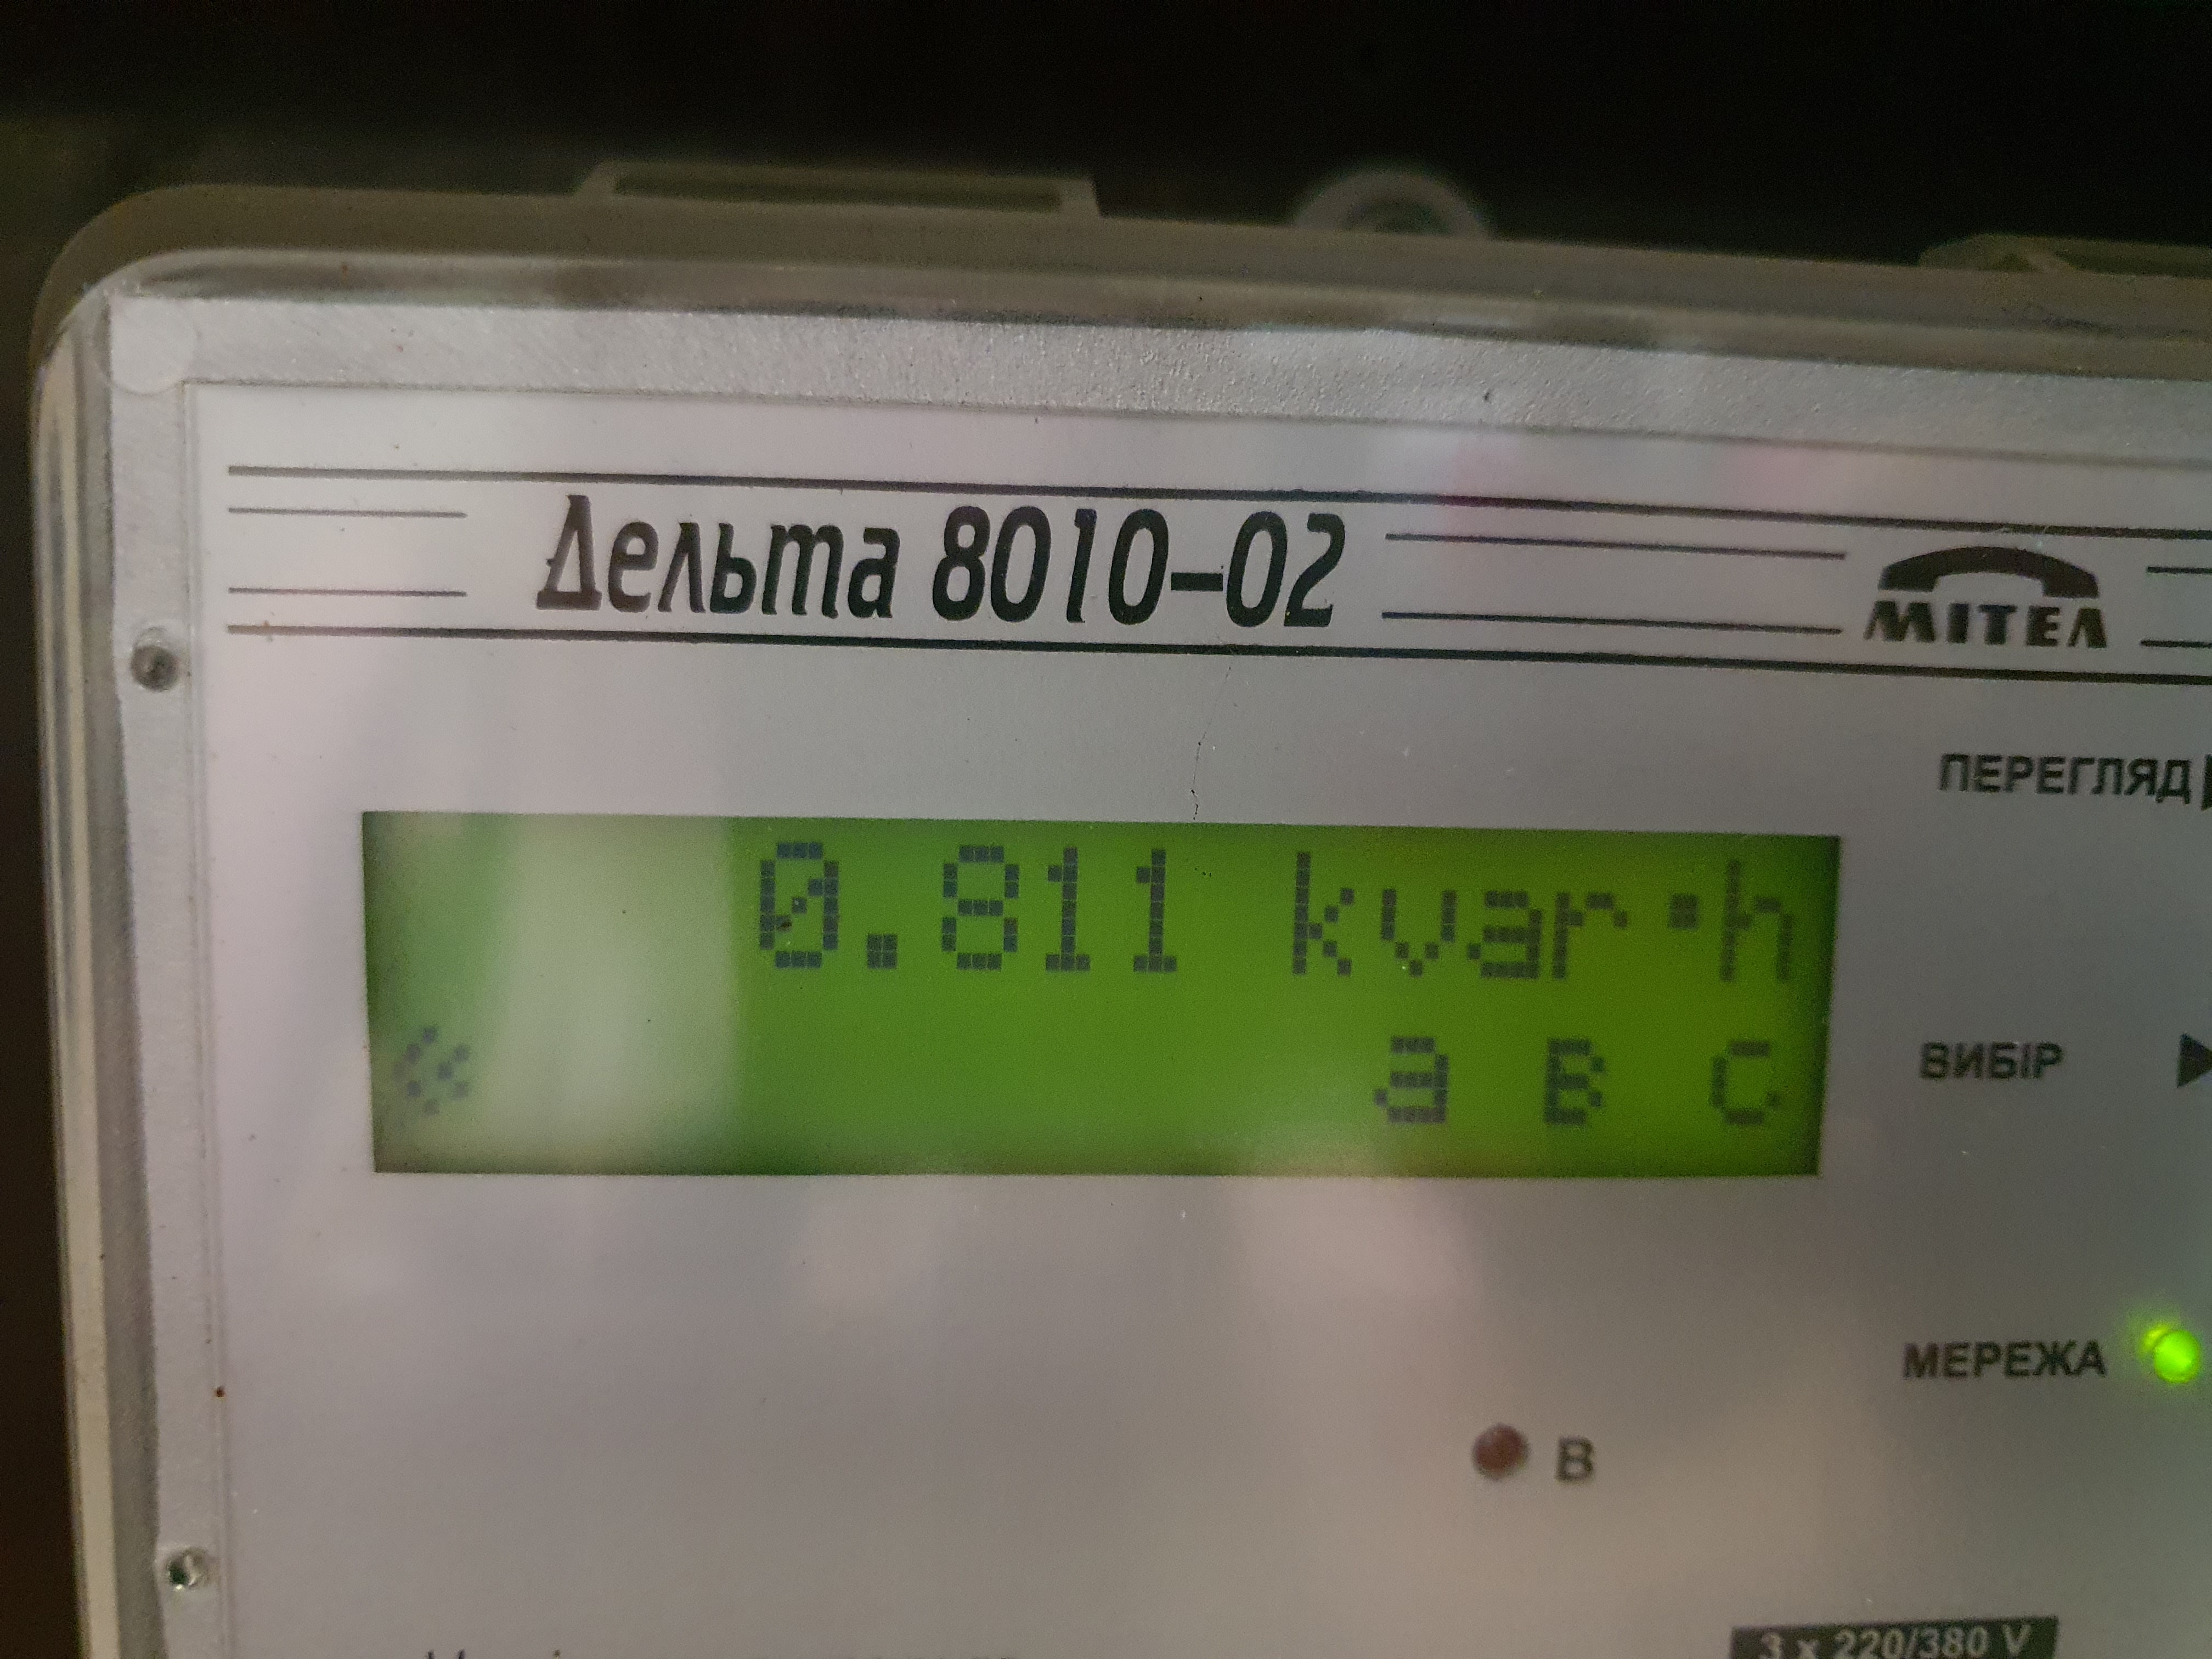screen: (314, 746, 1895, 1248)
